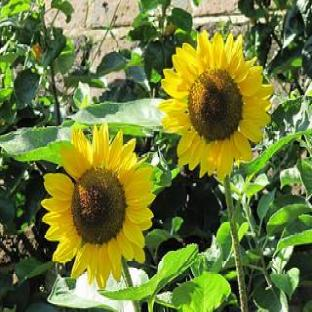sunflower: (40, 123, 171, 290), (157, 31, 273, 182)
